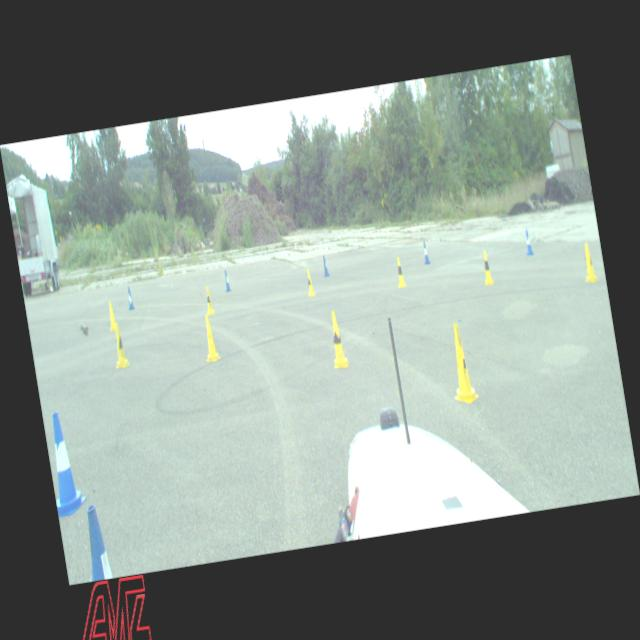blue_cone: (42, 411, 88, 517), (79, 504, 113, 582), (524, 229, 534, 255), (320, 255, 330, 278), (422, 241, 431, 264), (126, 286, 134, 310), (224, 270, 232, 292)
yellow_cone: (443, 322, 480, 406), (326, 309, 349, 369), (200, 313, 222, 363), (109, 322, 130, 368), (580, 242, 600, 282), (480, 250, 494, 286), (393, 255, 407, 288), (105, 300, 118, 331), (304, 268, 316, 297), (203, 286, 214, 314)
